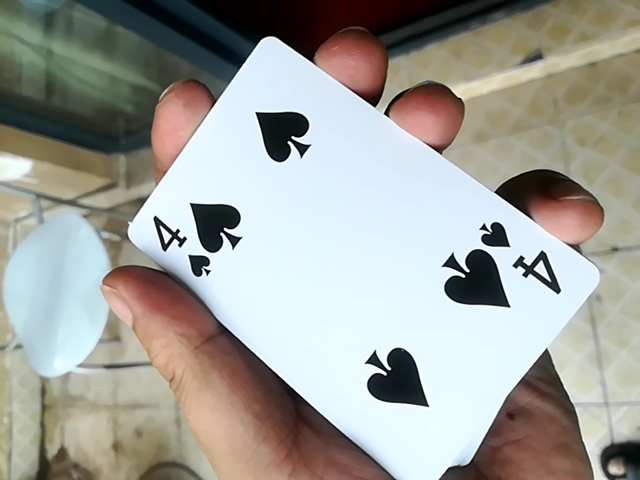ht 4: (107, 37, 596, 477)
